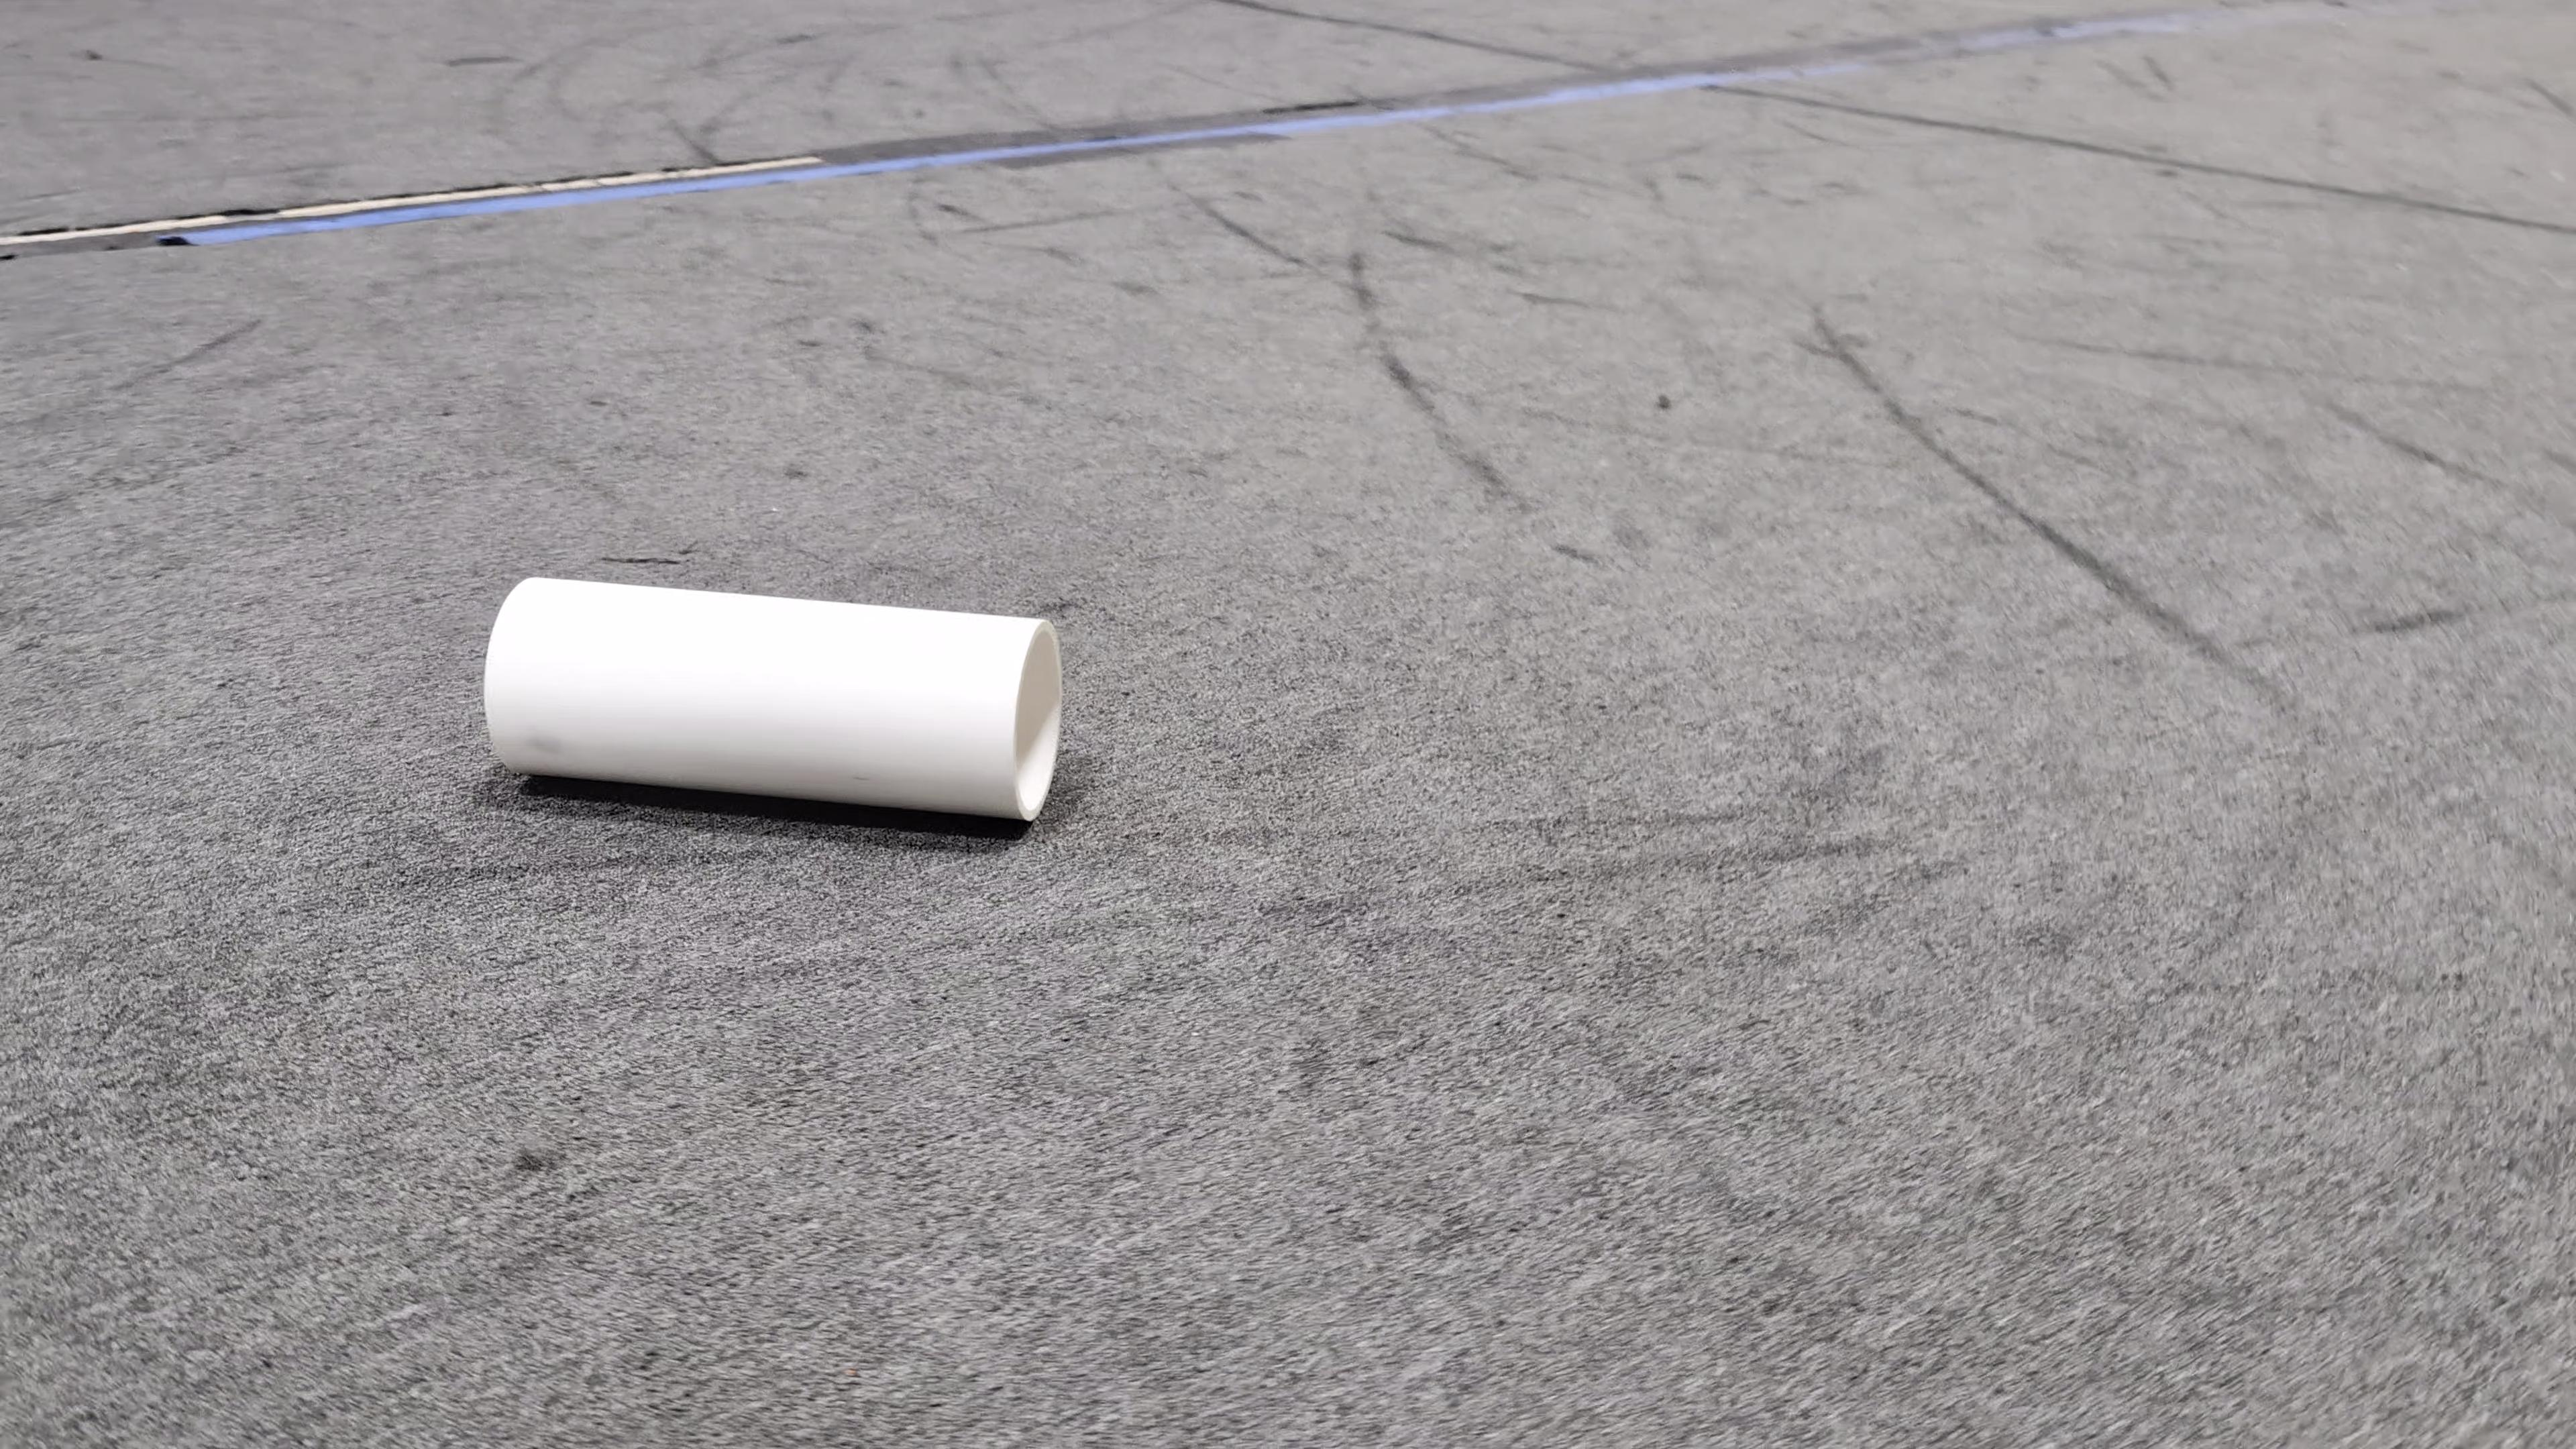coral: (483, 571, 1062, 821)
